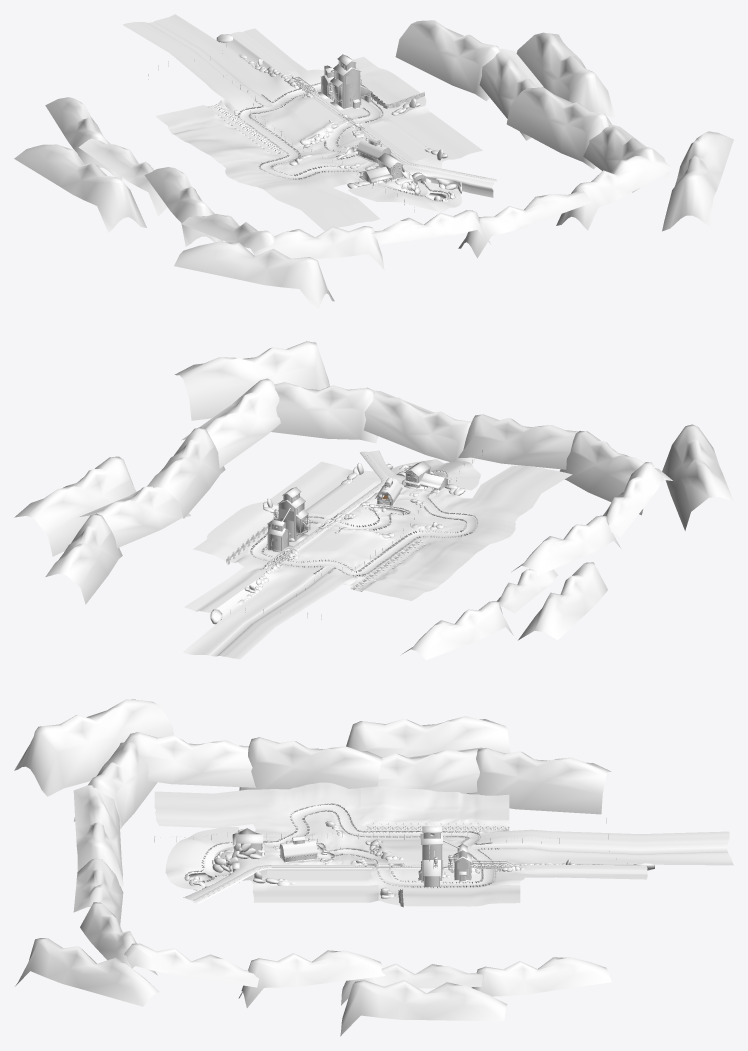
Rendered from cornfield_crossing_track.glb.
3 views of the same model, one above another, from view 1: azimuth 30°, elevation 25°; view 2: azimuth 150°, elevation 25°; view 3: azimuth 270°, elevation 25° (orthographic). The views are drawn at different scales.
Parts seen in each view (by area): view 1: generic_purple_skybox_east.png__, stk_generic_grassA.png__, stk_generic_FieldB.png__, stktex_roadTrail_a.png__, stk_generic_FieldA.png__, stk_generic_rock_b.png__, stklama_gravelSide_a.png__, stk_generic_corrugatedIronA.png__, stktex_generic_WoodF.png__, stk_grassAlpha.png__, stktex_generic_WoodA.png__, stk_wheatA.png__; view 2: generic_purple_skybox_east.png__, stk_generic_grassA.png__, stk_generic_FieldB.png__, stk_generic_FieldA.png__, stktex_roadTrail_a.png__, stk_generic_rock_b.png__, stk_generic_corrugatedIronA.png__, stklama_gravelSide_a.png__, stk_grassAlpha.png__, stktex_generic_WoodF.png__, stktex_generic_WoodA.png__, stk_wheatA.png__; view 3: generic_purple_skybox_east.png__, stk_generic_grassA.png__, stk_generic_FieldB.png__, stktex_roadTrail_a.png__, stk_generic_FieldA.png__, stk_generic_rock_b.png__, stk_generic_corrugatedIronA.png__, stk_grassAlpha.png__, stklama_gravelSide_a.png__, stktex_generic_WoodF.png__, stktex_generic_WoodA.png__.
Boxes of the visible parts, bbox=[...] form: generic_purple_skybox_east.png__: bbox=[14, 20, 733, 312]; stk_generic_grassA.png__: bbox=[123, 14, 493, 230]; stk_generic_FieldB.png__: bbox=[156, 100, 482, 163]; stktex_roadTrail_a.png__: bbox=[148, 21, 427, 195]; stk_generic_FieldA.png__: bbox=[310, 56, 432, 160]; stk_generic_rock_b.png__: bbox=[216, 34, 493, 201]; stklama_gravelSide_a.png__: bbox=[224, 38, 496, 182]; stk_generic_corrugatedIronA.png__: bbox=[320, 54, 424, 182]; stktex_generic_WoodF.png__: bbox=[321, 61, 424, 184]; stk_grassAlpha.png__: bbox=[238, 82, 449, 201]; stktex_generic_WoodA.png__: bbox=[287, 60, 497, 184]; stk_wheatA.png__: bbox=[207, 103, 282, 154]; generic_purple_skybox_east.png__: bbox=[14, 341, 733, 659]; stk_generic_grassA.png__: bbox=[183, 450, 572, 659]; stk_generic_FieldB.png__: bbox=[264, 461, 484, 600]; stk_generic_FieldA.png__: bbox=[193, 477, 397, 562]; stktex_roadTrail_a.png__: bbox=[209, 472, 476, 656]; stk_generic_rock_b.png__: bbox=[210, 462, 465, 624]; stk_generic_corrugatedIronA.png__: bbox=[267, 461, 451, 536]; stklama_gravelSide_a.png__: bbox=[216, 451, 388, 616]; stk_grassAlpha.png__: bbox=[250, 466, 478, 576]; stktex_generic_WoodF.png__: bbox=[268, 474, 404, 550]; stktex_generic_WoodA.png__: bbox=[263, 451, 416, 570]; stk_wheatA.png__: bbox=[350, 540, 426, 591]; generic_purple_skybox_east.png__: bbox=[14, 699, 611, 1036]; stk_generic_grassA.png__: bbox=[154, 782, 733, 904]; stk_generic_FieldB.png__: bbox=[252, 786, 509, 902]; stktex_roadTrail_a.png__: bbox=[205, 805, 727, 886]; stk_generic_FieldA.png__: bbox=[267, 843, 520, 906]; stk_generic_rock_b.png__: bbox=[184, 821, 654, 898]; stk_generic_corrugatedIronA.png__: bbox=[232, 826, 471, 876]; stk_grassAlpha.png__: bbox=[185, 803, 499, 887]; stklama_gravelSide_a.png__: bbox=[193, 846, 635, 903]; stktex_generic_WoodF.png__: bbox=[229, 833, 470, 886]; stktex_generic_WoodA.png__: bbox=[192, 833, 523, 903].
Size of the model in its own units: 1006 by 161 by 1042.
40 materials, 1 textured.
